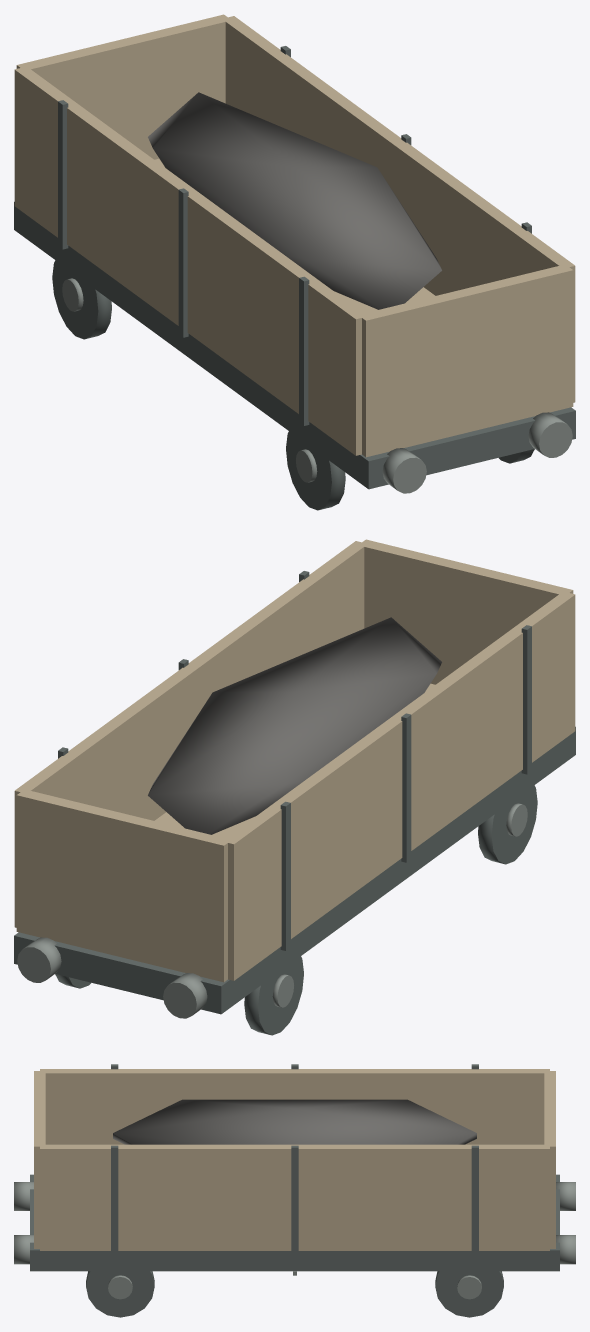
File: tyne-coal_lod0.glb
3 renders of one model, top to bottom at view 1: azimuth 30°, elevation 25°; view 2: azimuth 150°, elevation 25°; view 3: azimuth 270°, elevation 25°, orthographic. The views are drawn at different scales.
Visible parts, largest first — view 1: RF_WagonSide.001, RF_CoalLoad, RF_WagonEnd.001, RF_WagonSide, RF_WagonEnd, RF_Chassis, RF_Wheel.003, RF_Wheel.001, RF_Buffer.001, RF_Buffer.002, RF_WagonStrap.002, RF_WagonStrap.001 (+1 smaller); view 2: RF_WagonSide.001, RF_WagonEnd, RF_CoalLoad, RF_WagonSide, RF_WagonEnd.001, RF_Chassis, RF_Wheel.001, RF_Wheel.003, RF_Buffer.003, RF_Buffer, RF_WagonStrap.002, RF_WagonStrap.003 (+1 smaller); view 3: RF_WagonSide, RF_WagonSide.001, RF_CoalLoad, RF_Chassis, RF_Wheel.002, RF_Wheel, RF_WagonEnd.001, RF_WagonEnd, RF_WagonStrap.005, RF_WagonStrap.004, RF_WagonStrap, RF_Buffer.002 (+5 smaller).
Boxes of the visible parts, x1=… form: RF_WagonSide.001: x1=14, y1=67, x2=367, y2=455; RF_CoalLoad: x1=148, y1=92, x2=441, y2=309; RF_WagonEnd.001: x1=358, y1=265, x2=573, y2=457; RF_WagonSide: x1=222, y1=16, x2=575, y2=402; RF_WagonEnd: x1=16, y1=14, x2=227, y2=159; RF_Chassis: x1=14, y1=201, x2=575, y2=489; RF_Wheel.003: x1=52, y1=260, x2=111, y2=339; RF_Wheel.001: x1=286, y1=431, x2=345, y2=510; RF_Buffer.001: x1=382, y1=448, x2=426, y2=493; RF_Buffer.002: x1=528, y1=412, x2=572, y2=457; RF_WagonStrap.002: x1=178, y1=188, x2=188, y2=337; RF_WagonStrap.001: x1=299, y1=276, x2=309, y2=425; RF_WagonSide.001: x1=222, y1=591, x2=575, y2=980; RF_WagonEnd: x1=16, y1=789, x2=231, y2=982; RF_CoalLoad: x1=148, y1=617, x2=441, y2=834; RF_WagonSide: x1=14, y1=541, x2=367, y2=927; RF_WagonEnd.001: x1=362, y1=539, x2=573, y2=684; RF_Chassis: x1=14, y1=726, x2=575, y2=1014; RF_Wheel.001: x1=478, y1=785, x2=537, y2=864; RF_Wheel.003: x1=244, y1=956, x2=303, y2=1035; RF_Buffer.003: x1=163, y1=973, x2=207, y2=1018; RF_Buffer: x1=17, y1=937, x2=61, y2=982; RF_WagonStrap.002: x1=401, y1=713, x2=411, y2=862; RF_WagonStrap.003: x1=280, y1=801, x2=290, y2=950; RF_WagonSide: x1=40, y1=1144, x2=549, y2=1250; RF_WagonSide.001: x1=40, y1=1069, x2=549, y2=1144; RF_CoalLoad: x1=113, y1=1099, x2=476, y2=1144; RF_Chassis: x1=30, y1=1174, x2=559, y2=1271; RF_Wheel.002: x1=86, y1=1271, x2=154, y2=1317; RF_Wheel: x1=435, y1=1271, x2=503, y2=1317; RF_WagonEnd.001: x1=34, y1=1071, x2=45, y2=1248; RF_WagonEnd: x1=544, y1=1071, x2=555, y2=1248; RF_WagonStrap.005: x1=291, y1=1145, x2=298, y2=1255; RF_WagonStrap.004: x1=111, y1=1145, x2=118, y2=1255; RF_WagonStrap: x1=471, y1=1145, x2=478, y2=1255; RF_Buffer.002: x1=14, y1=1235, x2=33, y2=1264.
Bounding box in the file's own units: 2.97 × 2.9 × 8.48.
